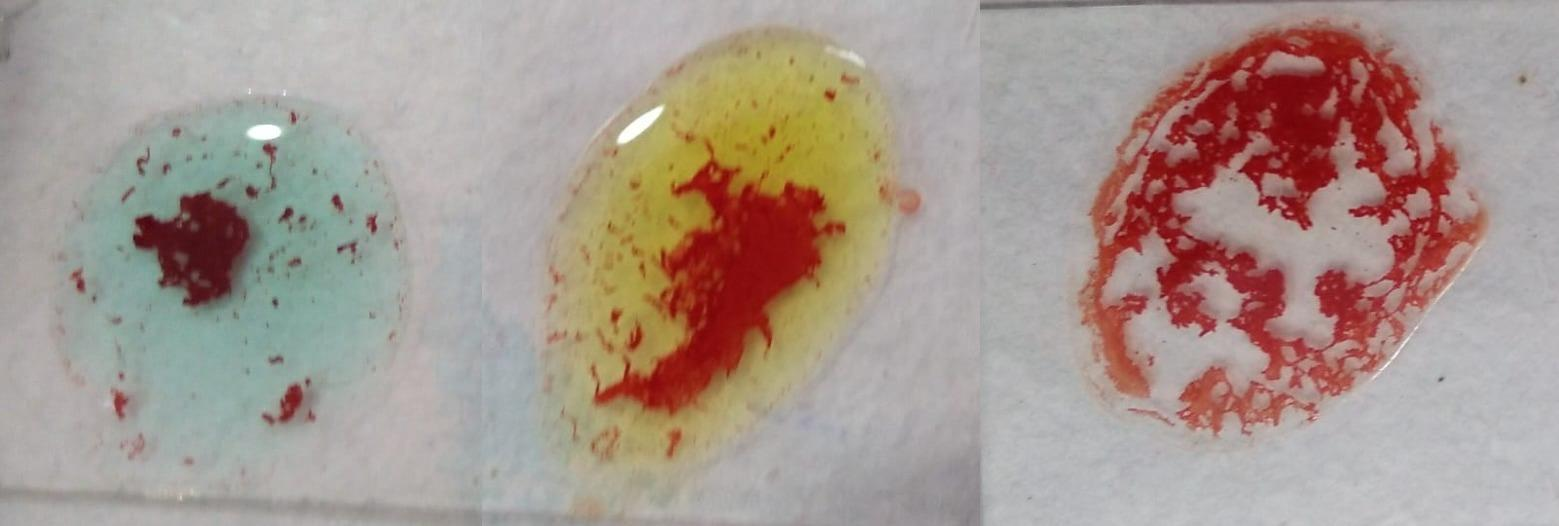A: (64, 103, 413, 466)
B: (537, 30, 884, 467)
D: (1089, 27, 1453, 456)
